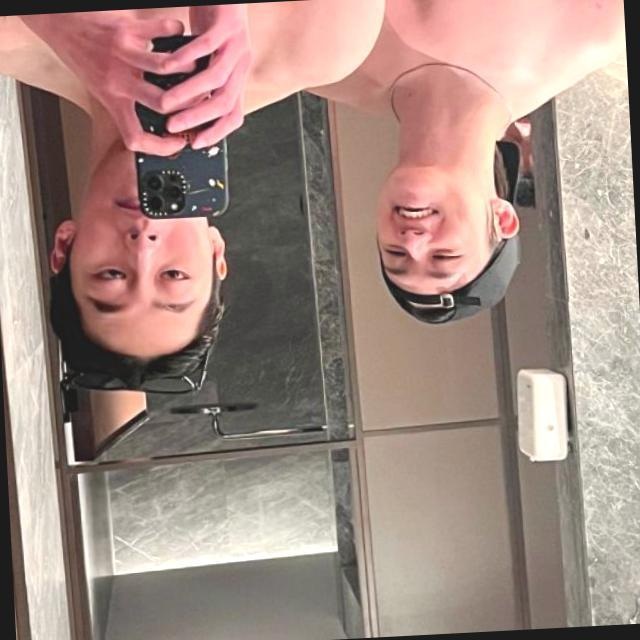lens: (144, 170, 190, 216)
phone: (123, 29, 234, 225)
